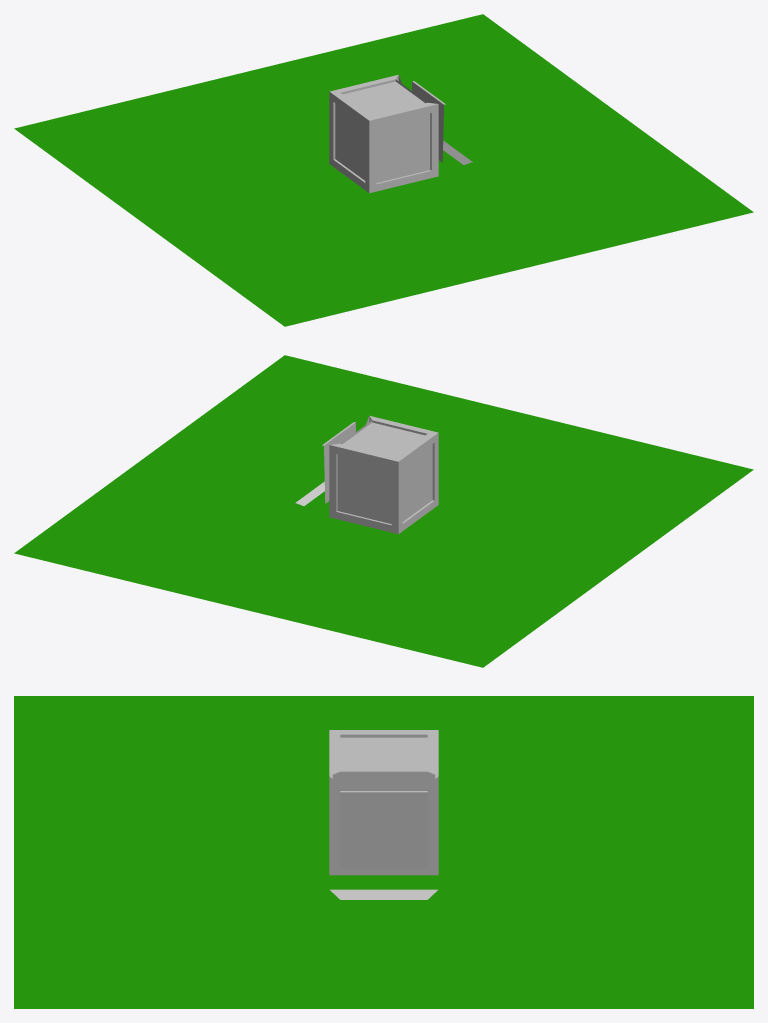
File: caixa_000077.obj
The picture shows the model from 3 angles, top to bottom: view 1: azimuth 30°, elevation 25°; view 2: azimuth 150°, elevation 25°; view 3: azimuth 270°, elevation 25°; orthographic projection. The views are drawn at different scales.
Visible parts, largest first — view 1: Plane, Cube_Cube.003, Cube.002_Cube.001; view 2: Plane, Cube_Cube.003, Cube.002_Cube.001; view 3: Plane, Cube_Cube.003, Cube.002_Cube.001, Cube.001_Cube.000.
Part boxes in pixels (left/top/right/bottom): Plane: left=14, top=14, right=753, bottom=326; Cube_Cube.003: left=329, top=74, right=438, bottom=193; Cube.002_Cube.001: left=412, top=81, right=445, bottom=162; Plane: left=14, top=355, right=753, bottom=667; Cube_Cube.003: left=329, top=415, right=438, bottom=534; Cube.002_Cube.001: left=322, top=422, right=355, bottom=503; Plane: left=14, top=696, right=753, bottom=1008; Cube_Cube.003: left=329, top=730, right=438, bottom=875; Cube.002_Cube.001: left=340, top=791, right=427, bottom=868; Cube.001_Cube.000: left=330, top=889, right=437, bottom=899.
Bounding box in the file's own units: 13.55 × 2.01 × 13.55.
